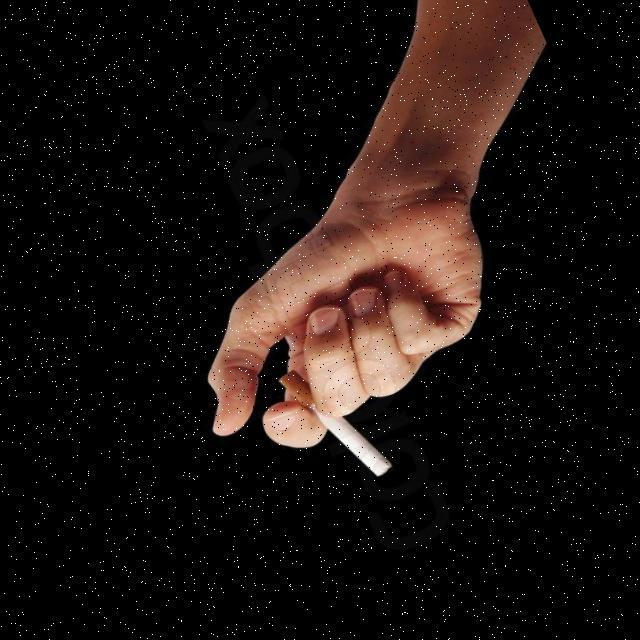cigarette: (262, 336, 408, 504)
